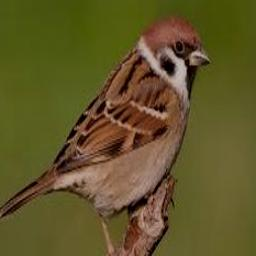Sparrow: (0, 18, 212, 253)
